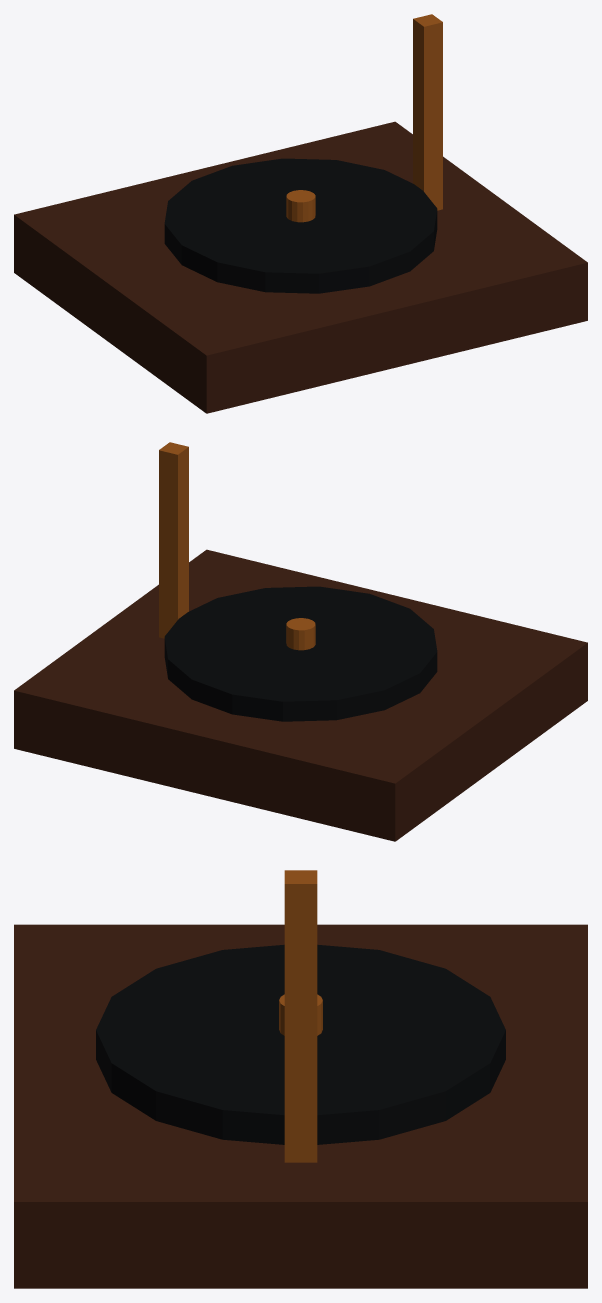
3 views of the same model, one above another, from view 1: azimuth 30°, elevation 25°; view 2: azimuth 150°, elevation 25°; view 3: azimuth 270°, elevation 25° (orthographic). The views are drawn at different scales.
Parts seen in each view (by area): view 1: dark_wood, rubber, brass; view 2: dark_wood, rubber, brass; view 3: dark_wood, rubber, brass.
Boxes of the visible parts, x1,y1,x2,y2 form: dark_wood: (14,121,587,413); rubber: (164,158,437,293); brass: (286,14,442,222); dark_wood: (14,549,587,841); rubber: (164,586,437,721); brass: (159,442,315,650); dark_wood: (14,924,587,1288); rubber: (96,944,505,1144); brass: (279,870,322,1162).
Size of the model in its own units: 2.4 by 1.47 by 2.1.
